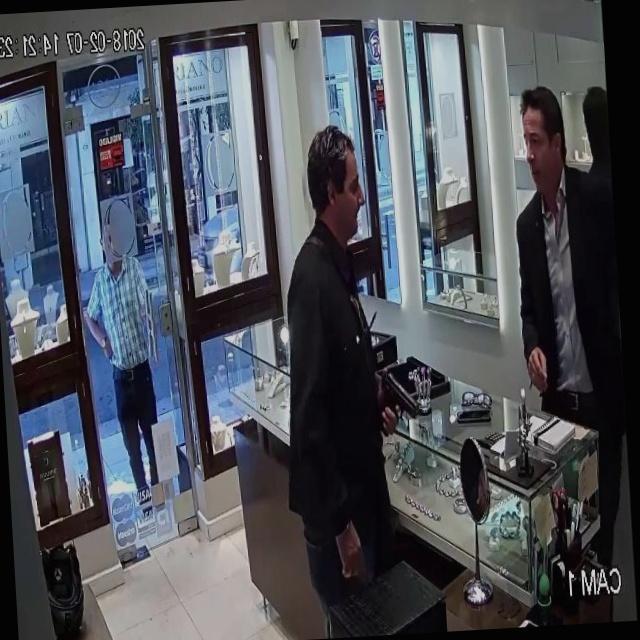gun: (376, 344, 437, 468)
